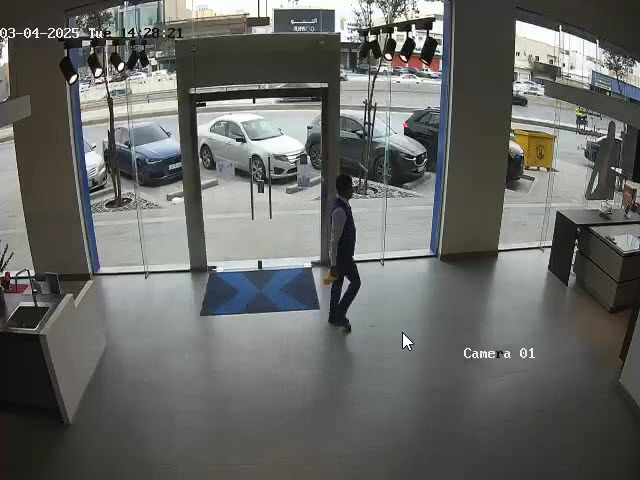employee: (323, 174, 362, 332)
